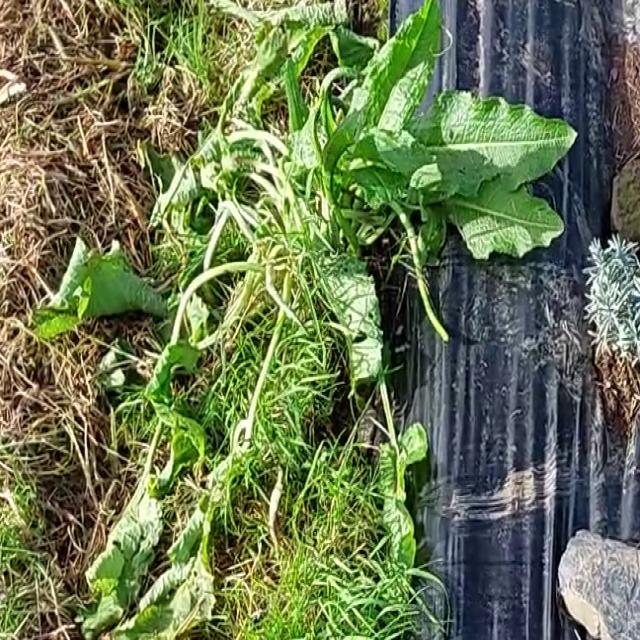organic waste: (231, 11, 609, 331), (57, 364, 258, 640), (5, 192, 228, 376)
